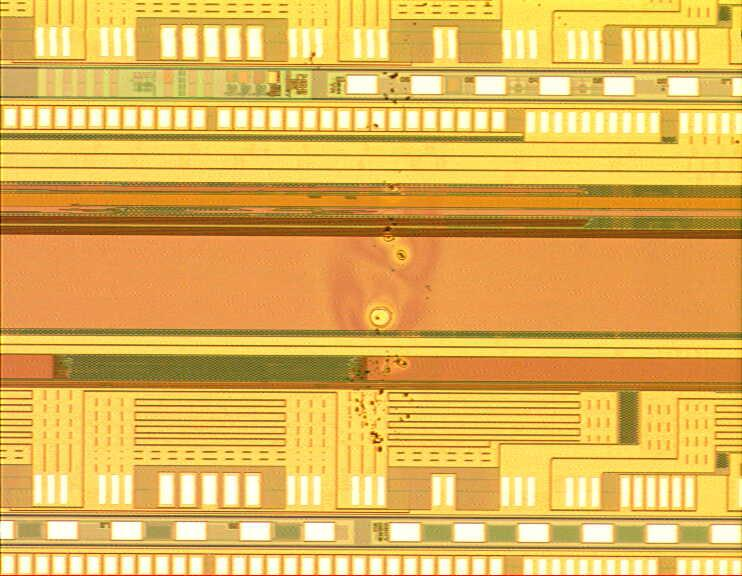PO CONTAMINATION: (298, 1, 742, 456)
